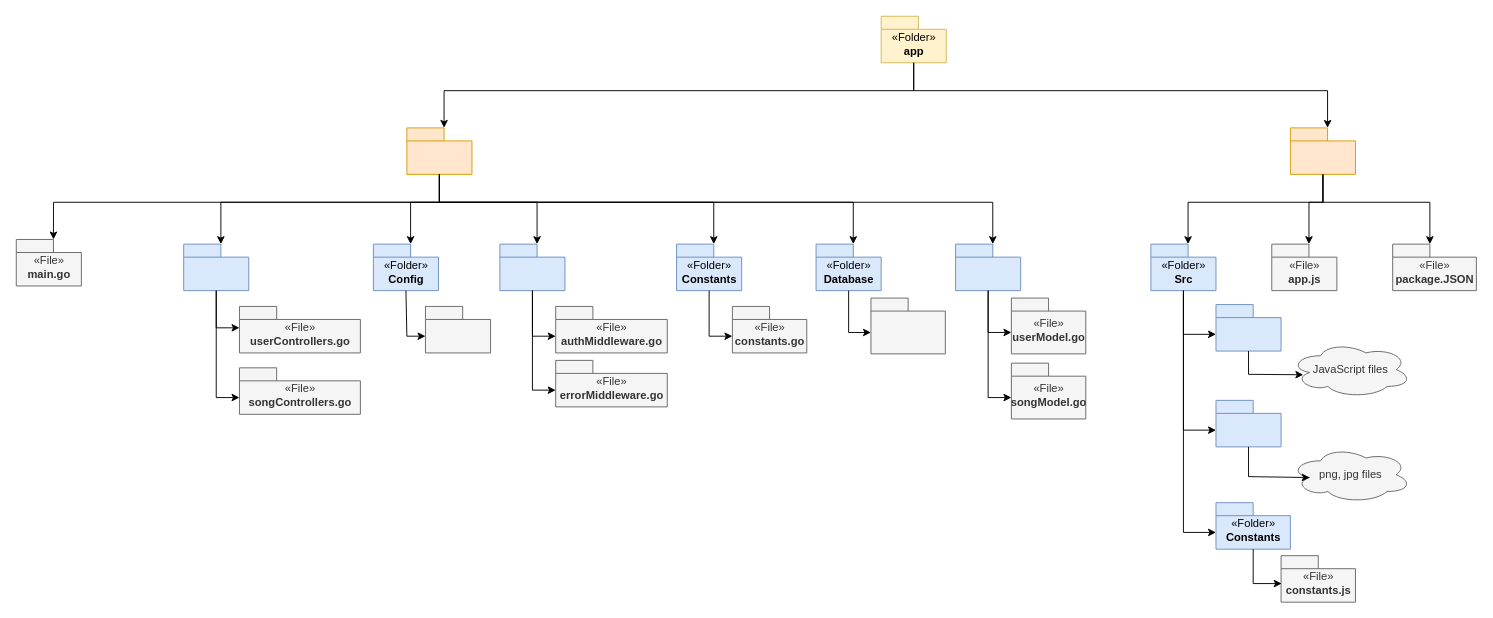
This 1493x618 diagram has some shape labels left out. Each missing label, with the centre of its shape:
«File» musicapp.sql: the point at 907,325
«File» mysql.go: the point at 458,329
«Folder» Assets: the point at 1248,423
«Folder» Back-end: the point at 439,150
«Folder» Controllers: the point at 216,267
«Folder» Front-end: the point at 1322,150
«Folder» Middleware: the point at 532,267
«Folder» Models: the point at 988,267
«Folder» Screens: the point at 1248,327
